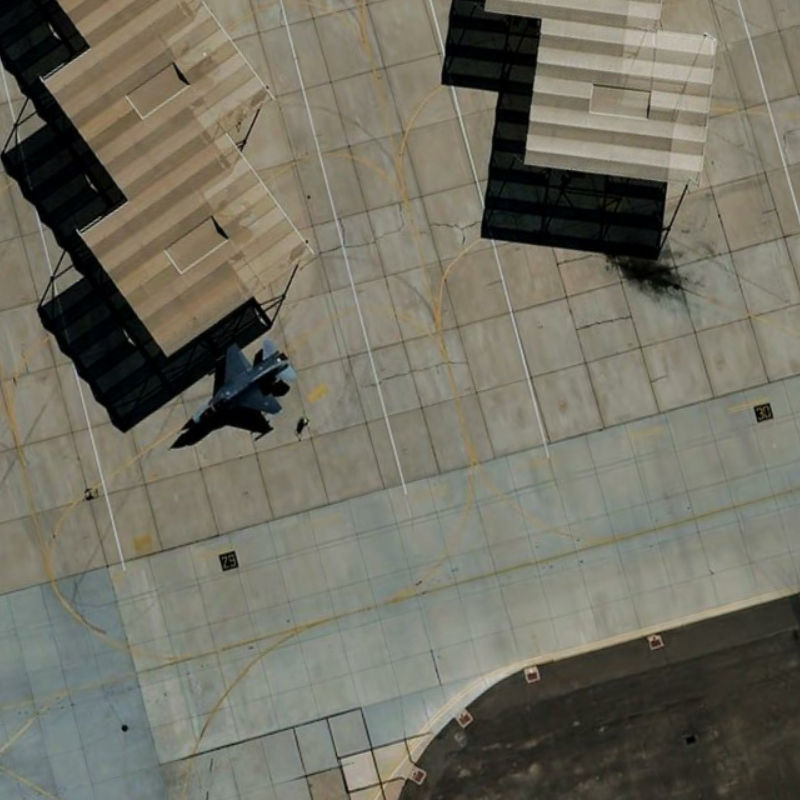A5: (171, 332, 303, 444)
